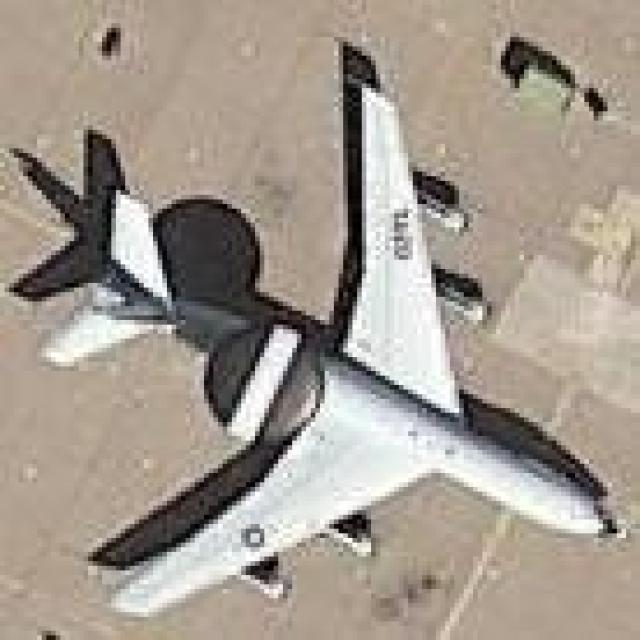E-3_TopDown: (0, 28, 626, 617)
